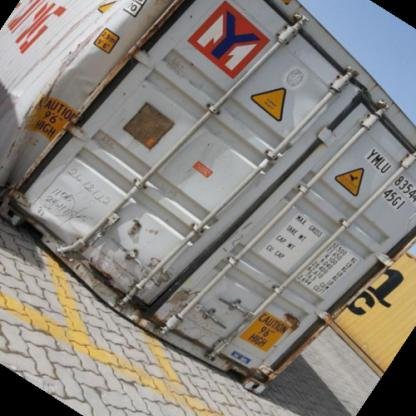Damage: (5, 21, 121, 232), (172, 279, 244, 368), (88, 242, 155, 300)
